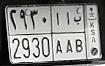0: (41, 16, 50, 60)
2: (8, 9, 20, 60)
3: (31, 9, 41, 60)
9: (19, 9, 31, 59)
A: (55, 11, 63, 54), (65, 12, 73, 54)
B: (73, 15, 84, 53)
